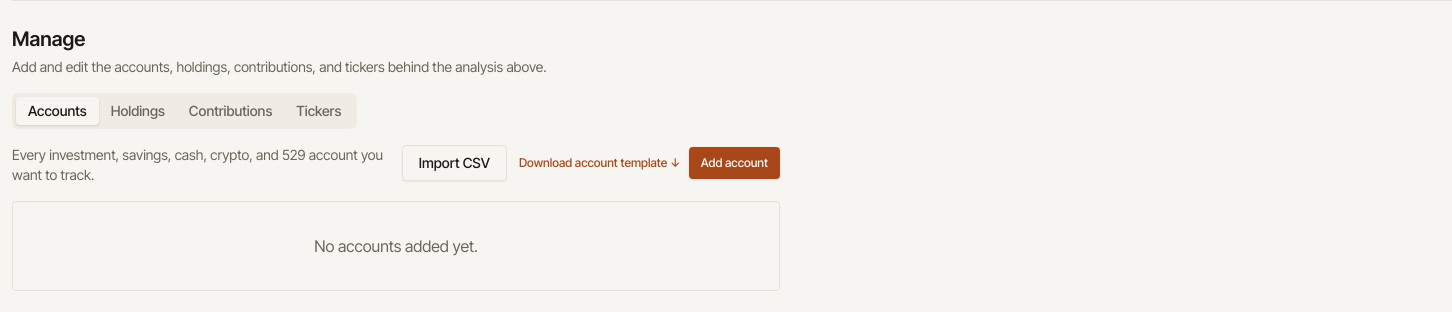
it: ManageSurface (W14) › clicking a sub-tab switches the panel
This screenshot has width=1452, height=312.
Step 1. Click the tab "Tickers" → (319, 111), box x1=284 y1=97 x2=353 y2=125
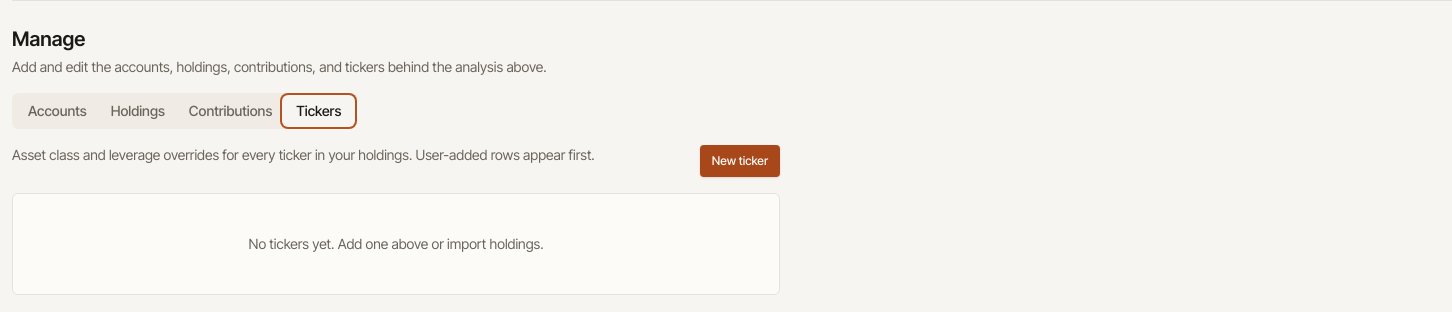
Expected: the text "No tickers yet. Add one above or import holdings." is shown, x1=248 y1=235 x2=544 y2=252
